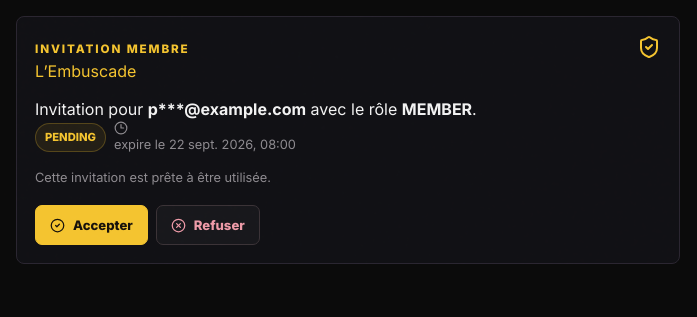
Test: Forum member invitations › accepts an invitation from the link and routes to the structure
This screenshot has width=697, height=317.
Check: the text "Invitation pour p***@example.com avec le rôle MEMBER." is shown, box [35,99,477,119]
Click the button "Accepter" at (91, 225), box [35,205,148,245]
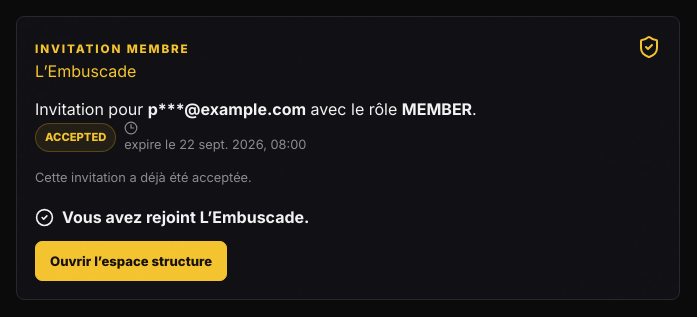
Check: the text "Vous avez rejoint L’Embuscade." is shown, box [62,205,309,229]
